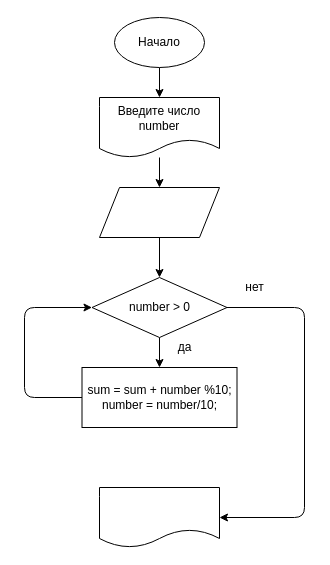
This 330x565 diagram has some shape labels left out. The centre of each missing label's shape, as x and y in pixels:
"number sum = 0" belongs at (x=159, y=212).
"print sum" belongs at (x=159, y=517).
